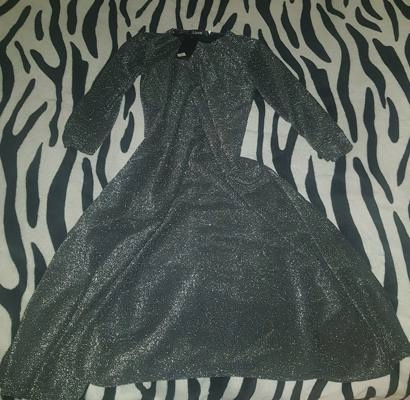Dress: (9, 18, 408, 391)
